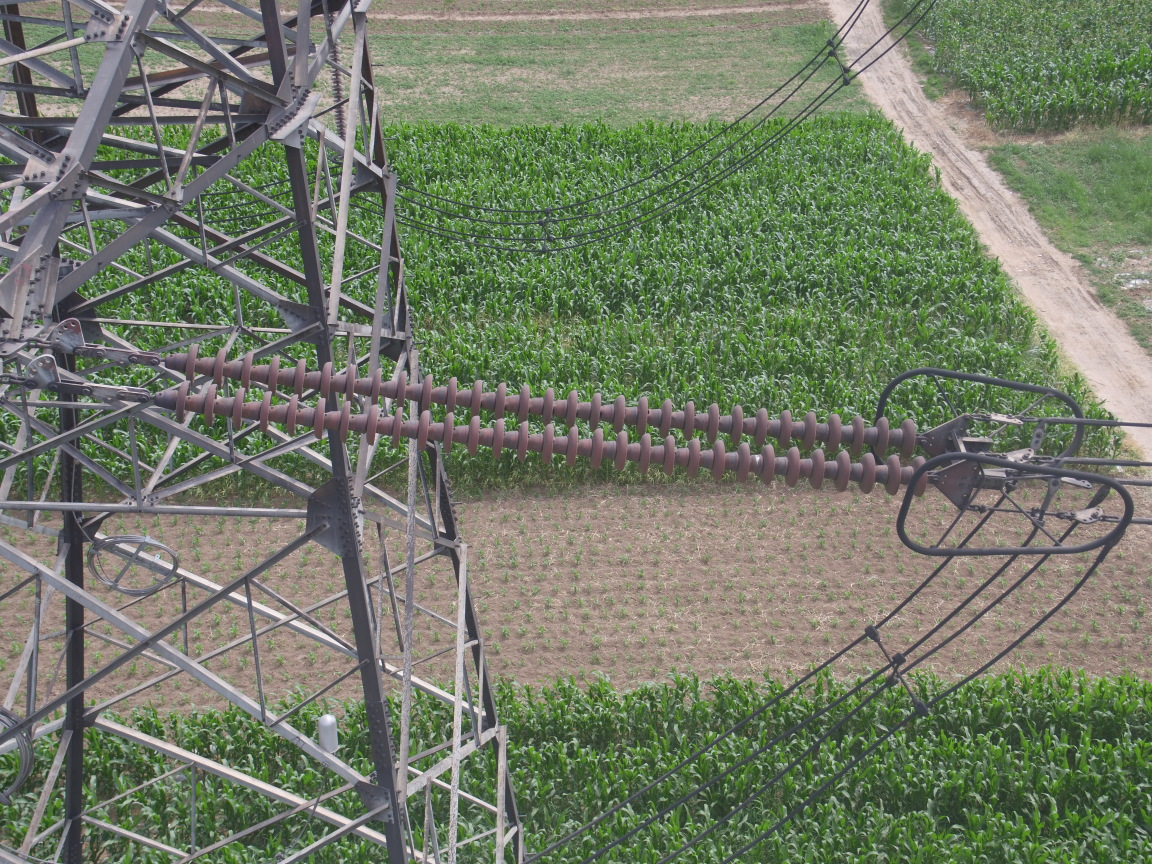insulator: (105, 338, 955, 503)
